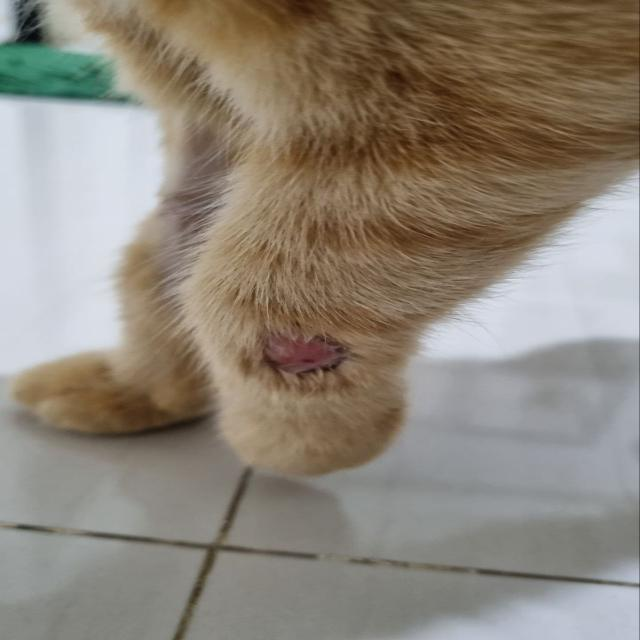hac lao: (230, 286, 372, 436)
